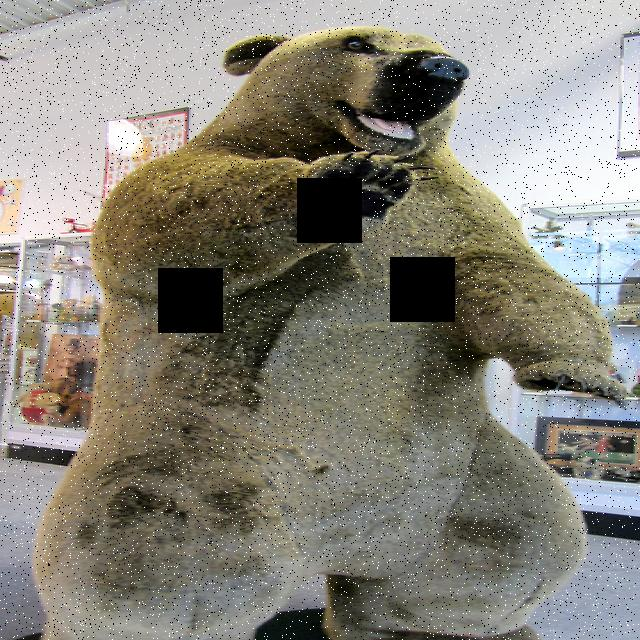Bear: (60, 15, 626, 640)
